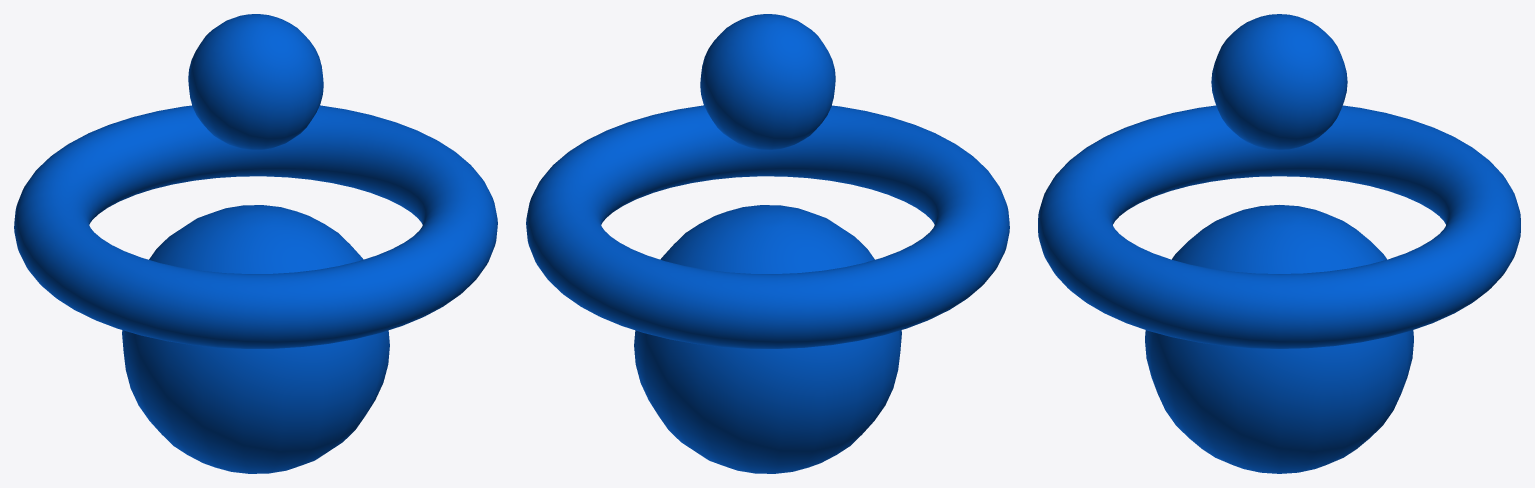
File: gem_1.2.fbx
The picture shows the model from 3 angles, left to right: view 1: azimuth 30°, elevation 25°; view 2: azimuth 150°, elevation 25°; view 3: azimuth 270°, elevation 25°; orthographic projection.
Parts seen in each view (by area): view 1: pTorus1, pasted__pSphere1, pSphere1; view 2: pTorus1, pasted__pSphere1, pSphere1; view 3: pTorus1, pasted__pSphere1, pSphere1.
Part boxes in pixels (x1,y1,x2,y2): pTorus1: (14,105,497,348); pasted__pSphere1: (122,205,389,473); pSphere1: (188,14,323,149); pTorus1: (526,105,1009,348); pasted__pSphere1: (634,205,901,473); pSphere1: (700,14,835,149); pTorus1: (1038,105,1520,348); pasted__pSphere1: (1145,205,1413,473); pSphere1: (1211,14,1347,149).
Bounding box in the file's own units: 7.1 × 7.14 × 7.09.
